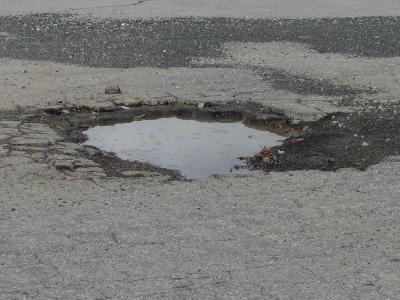pothole: (43, 94, 309, 182)
